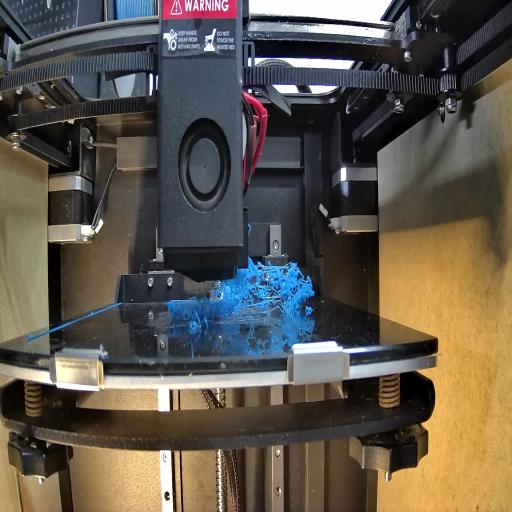spaghetti: (223, 264, 313, 315), (178, 288, 214, 336)
